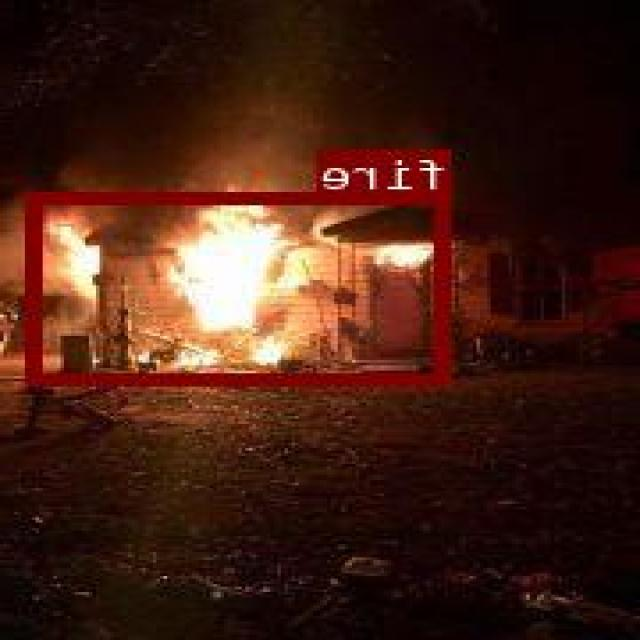fire: (29, 189, 453, 383)
